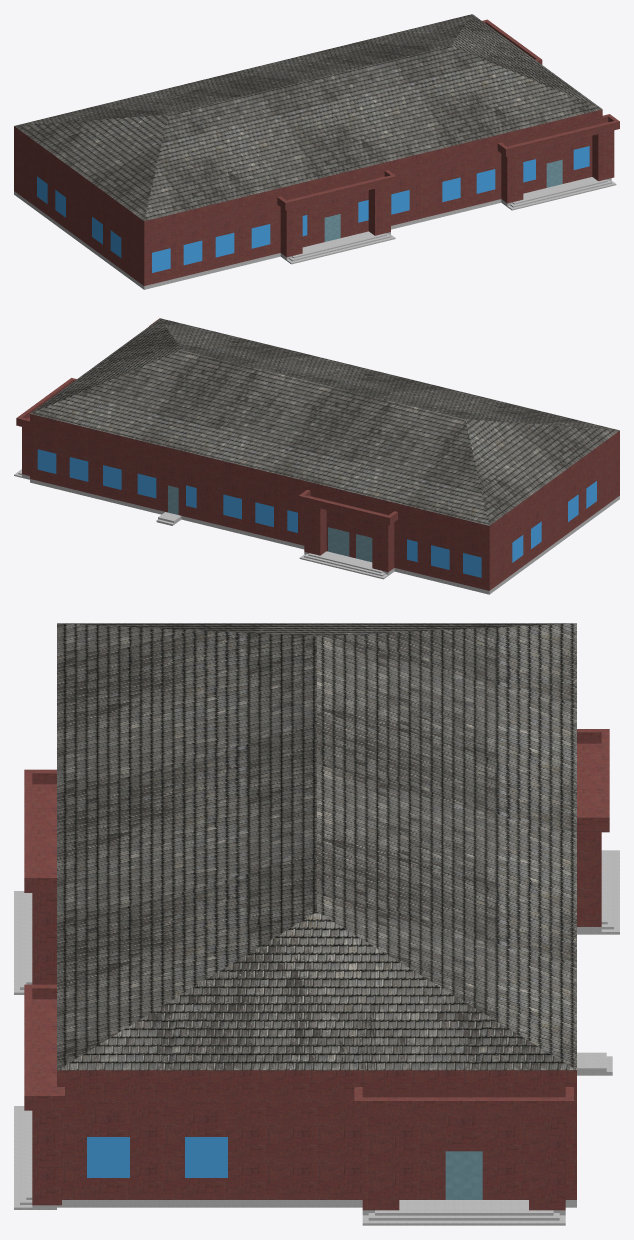
The model's file is Dosing_Building.glb.
3 views of the same model, one above another, from view 1: azimuth 30°, elevation 25°; view 2: azimuth 150°, elevation 25°; view 3: azimuth 270°, elevation 25° (orthographic). The views are drawn at different scales.
Parts seen in each view (by area): view 1: Roof, Floor1; view 2: Roof, Floor1; view 3: Roof, Floor1.
Part boxes in pixels (x1,y1,x2,y2): Roof: (14,14,619,236); Floor1: (14,130,616,289); Roof: (16,318,619,541); Floor1: (14,427,619,594); Roof: (24,623,609,1115); Floor1: (14,832,619,1225).
Size of the model in its own units: 53.84 by 11.4 by 29.64.
7 materials, 6 textured.
